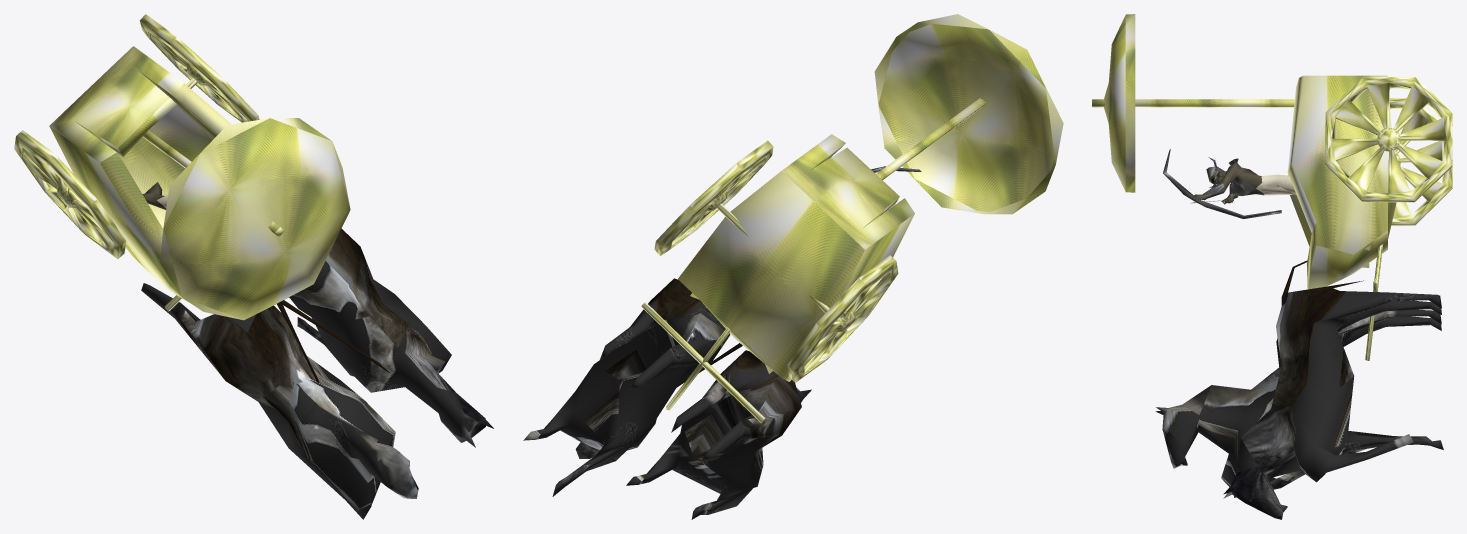
Rendered from chariot_000220.obj.
3 renders of one model, left to right at view 1: azimuth 30°, elevation 25°; view 2: azimuth 150°, elevation 25°; view 3: azimuth 270°, elevation 25°, orthographic. The views are drawn at different scales.
Visible parts, largest first — view 1: umbrella_Sphere, Horse.000_objHorse_0.001, chariot_Cube.001, Horse.001_objHorse_0.002, wheelR_Cylinder, wheelL_Cylinder.003, Cylinder_Cylinder.001; view 2: chariot_Cube.001, umbrella_Sphere, Horse.001_objHorse_0.002, Horse.000_objHorse_0.001, wheelR_Cylinder, wheelL_Cylinder.003, rod_Cylinder.002; view 3: Horse.001_objHorse_0.002, chariot_Cube.001, wheelL_Cylinder.003, Horse.000_objHorse_0.001, umbrella_Sphere, A4_Circle, wheelR_Cylinder, rod_Cylinder.002.
Part boxes in pixels (<box>): umbrella_Sphere: <box>142,118,350,320</box>; Horse.000_objHorse_0.001: <box>141,283,418,519</box>; chariot_Cube.001: <box>49,46,231,302</box>; Horse.001_objHorse_0.002: <box>289,228,493,447</box>; wheelR_Cylinder: <box>14,130,126,258</box>; wheelL_Cylinder.003: <box>139,14,259,122</box>; Cylinder_Cylinder.001: <box>277,300,390,382</box>; chariot_Cube.001: <box>678,134,914,381</box>; umbrella_Sphere: <box>874,14,1063,214</box>; Horse.001_objHorse_0.002: <box>523,278,730,496</box>; Horse.000_objHorse_0.001: <box>626,350,811,519</box>; wheelR_Cylinder: <box>787,255,898,382</box>; wheelL_Cylinder.003: <box>654,140,773,255</box>; rod_Cylinder.002: <box>641,203,829,422</box>; Horse.001_objHorse_0.002: <box>1223,280,1443,519</box>; chariot_Cube.001: <box>1287,75,1396,289</box>; wheelL_Cylinder.003: <box>1325,76,1452,202</box>; Horse.000_objHorse_0.001: <box>1155,309,1441,497</box>; umbrella_Sphere: <box>1092,14,1294,192</box>; A4_Circle: <box>1163,149,1296,218</box>; wheelR_Cylinder: <box>1389,98,1452,225</box>; rod_Cylinder.002: <box>1365,244,1383,360</box>.
Bounding box in the file's own units: 6.72 × 7.87 × 6.33.
